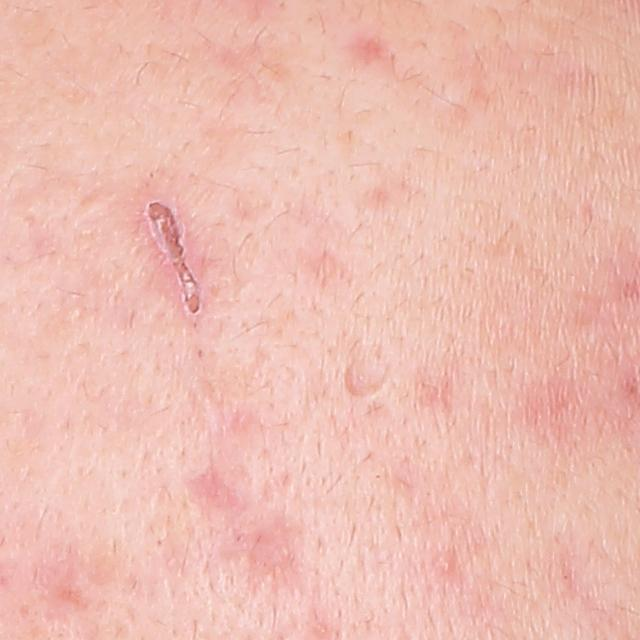atrophic_scar: (341, 344, 392, 405)
comedo: (431, 552, 459, 576)
other: (144, 193, 203, 326)
